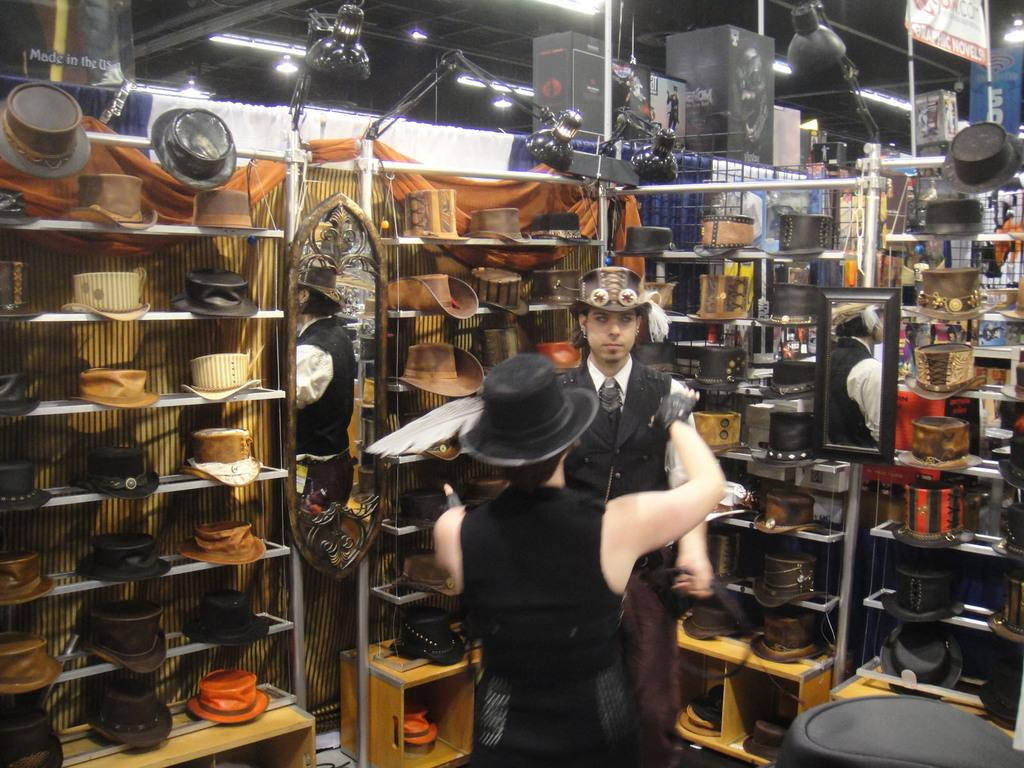Hat: (0, 79, 1023, 768)
